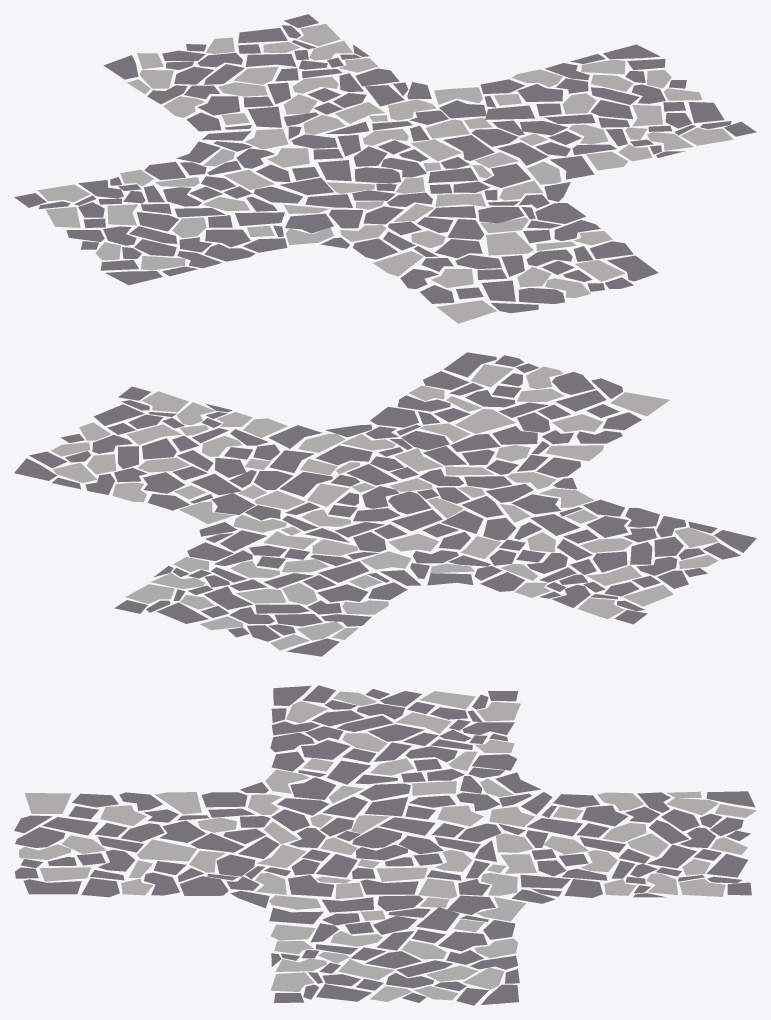
The model's file is crossroad.fbx.
3 views of the same model, one above another, from view 1: azimuth 30°, elevation 25°; view 2: azimuth 150°, elevation 25°; view 3: azimuth 270°, elevation 25° (orthographic). The views are drawn at different scales.
Visible parts, largest first — view 1: crossroad; view 2: crossroad; view 3: crossroad.
Boxes of the visible parts, x1=… form: crossroad: x1=14, y1=14, x2=756, y2=323; crossroad: x1=14, y1=352, x2=756, y2=656; crossroad: x1=14, y1=685, x2=756, y2=1005.
Size of the model in its own units: 609 by 1.55 by 597.
